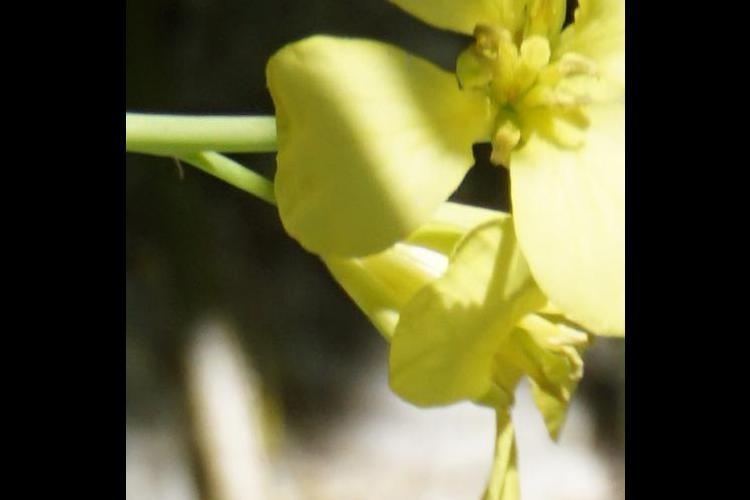yellow: (295, 1, 610, 297), (368, 212, 562, 500)
